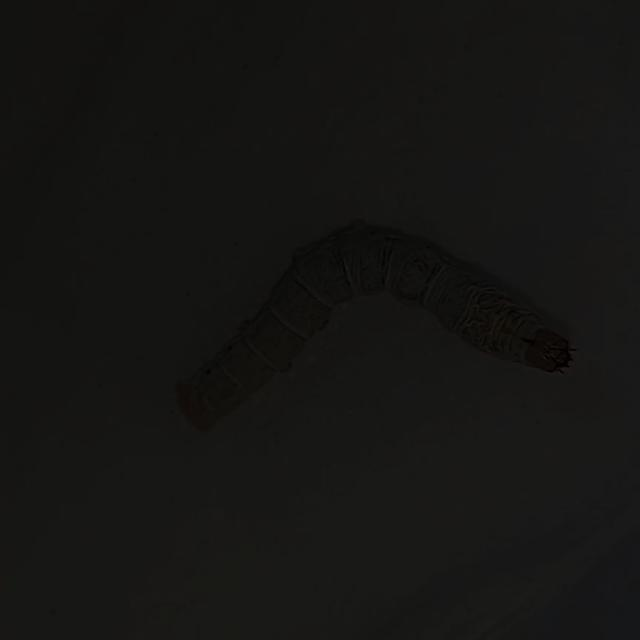Healthy: (165, 188, 591, 504)
